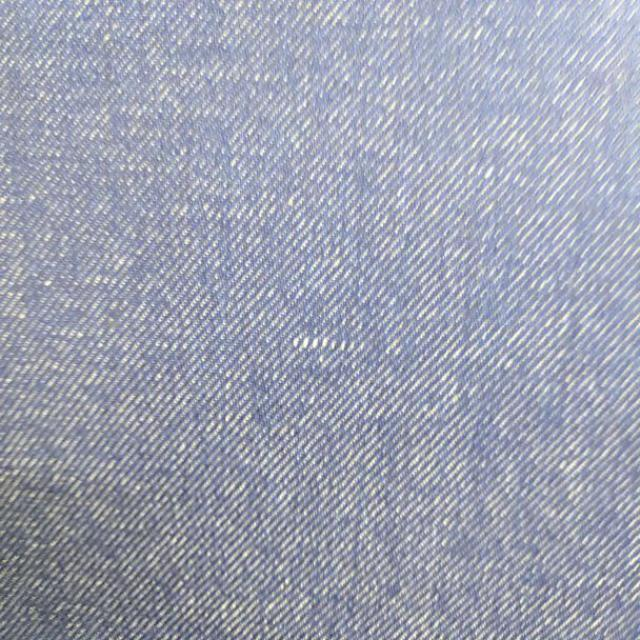Knot: (293, 336, 354, 351)
